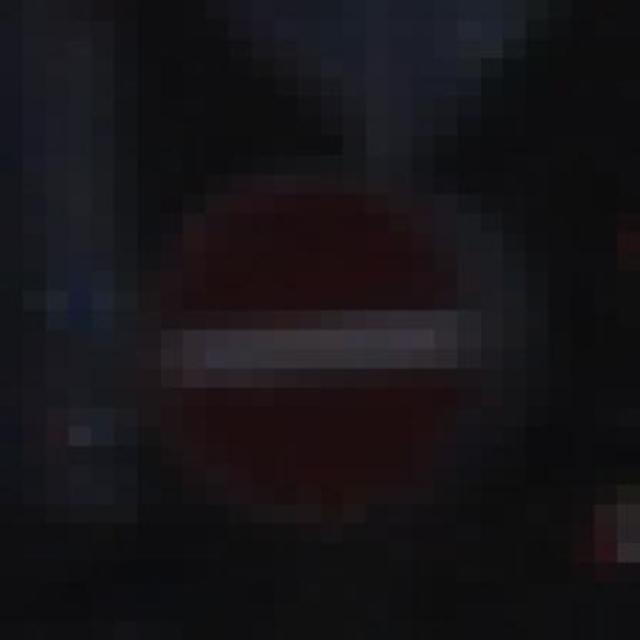No Entry: (82, 120, 562, 566)
